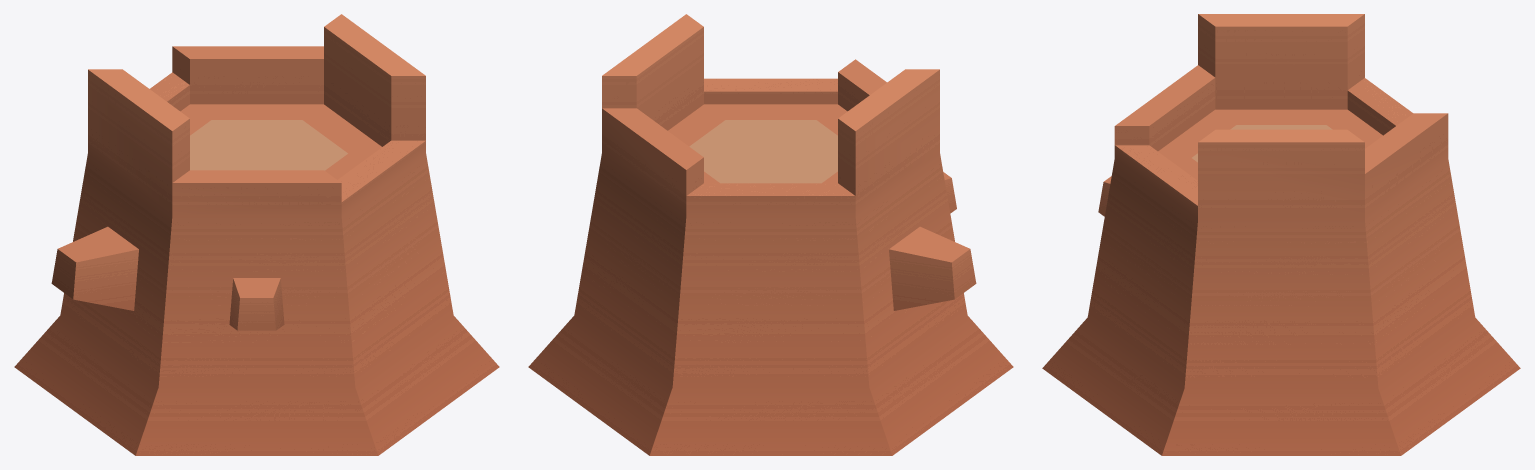
Rendered from trunk.glb.
The picture shows the model from 3 angles, left to right: view 1: azimuth 30°, elevation 25°; view 2: azimuth 150°, elevation 25°; view 3: azimuth 270°, elevation 25°; orthographic projection.
Visible parts, largest first — view 1: trunk; view 2: trunk; view 3: trunk.
Part boxes in pixels (<box>): trunk: <box>14,14,499,455</box>; trunk: <box>528,14,1013,455</box>; trunk: <box>1042,14,1520,455</box>.
Size of the model in its own units: 1.48 by 1.12 by 1.65.
1 material, 1 textured.
